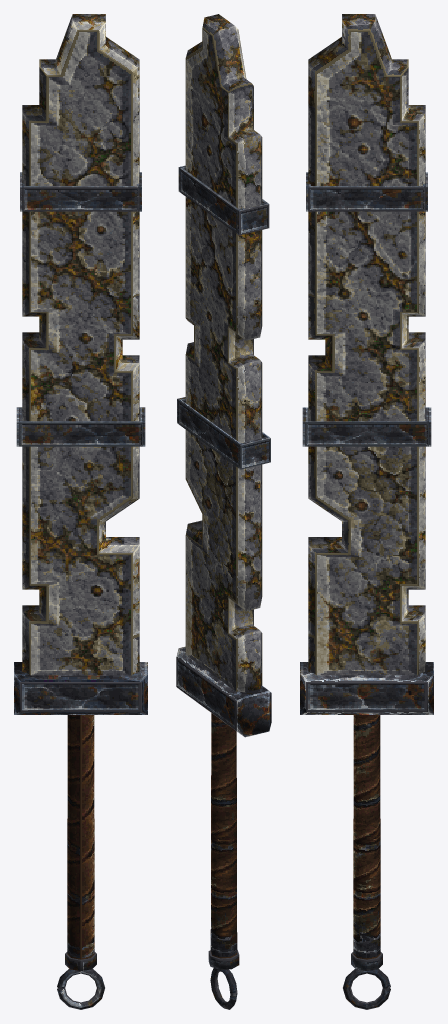
The model's file is tombstone.glb.
3 renders of one model, left to right at view 1: azimuth 90°, elevation 25°; view 2: azimuth 210°, elevation 25°; view 3: azimuth 270°, elevation 25°, orthographic.
Visible parts, largest first — view 1: tombstone; view 2: tombstone; view 3: tombstone.
Boxes of the visible parts, x1,y1,x2,y2 form: tombstone: (14, 14, 147, 1009); tombstone: (176, 14, 271, 1009); tombstone: (300, 14, 433, 1009).
Size of the model in its own units: 0.05 by 1.31 by 0.16.
Materials: 1 (1 with a texture image).
